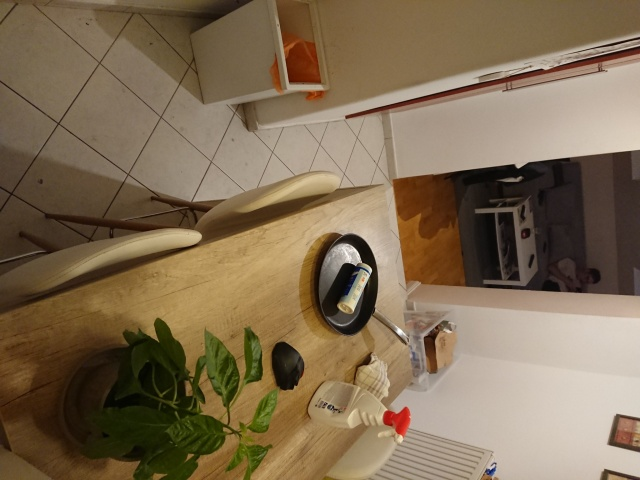Solana Pag Fine Sea Salt 250g: (334, 261, 374, 316)
